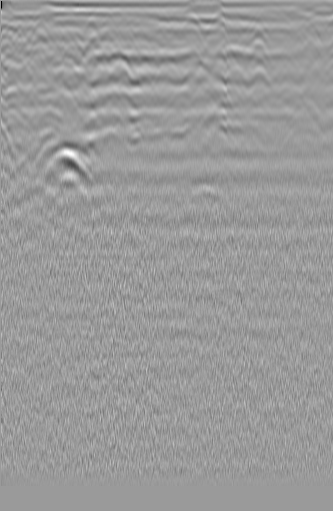상수: (272, 30, 306, 58)
오수: (0, 31, 24, 64)
우수: (118, 31, 165, 57)
